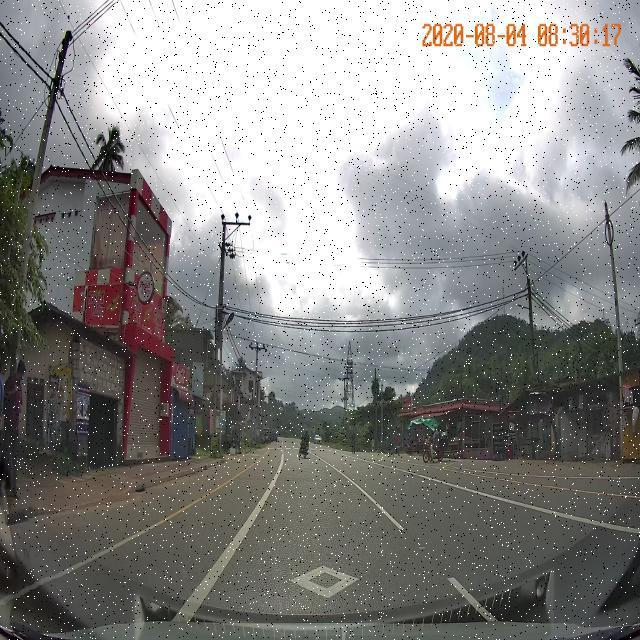diamond: (184, 562, 464, 607)
